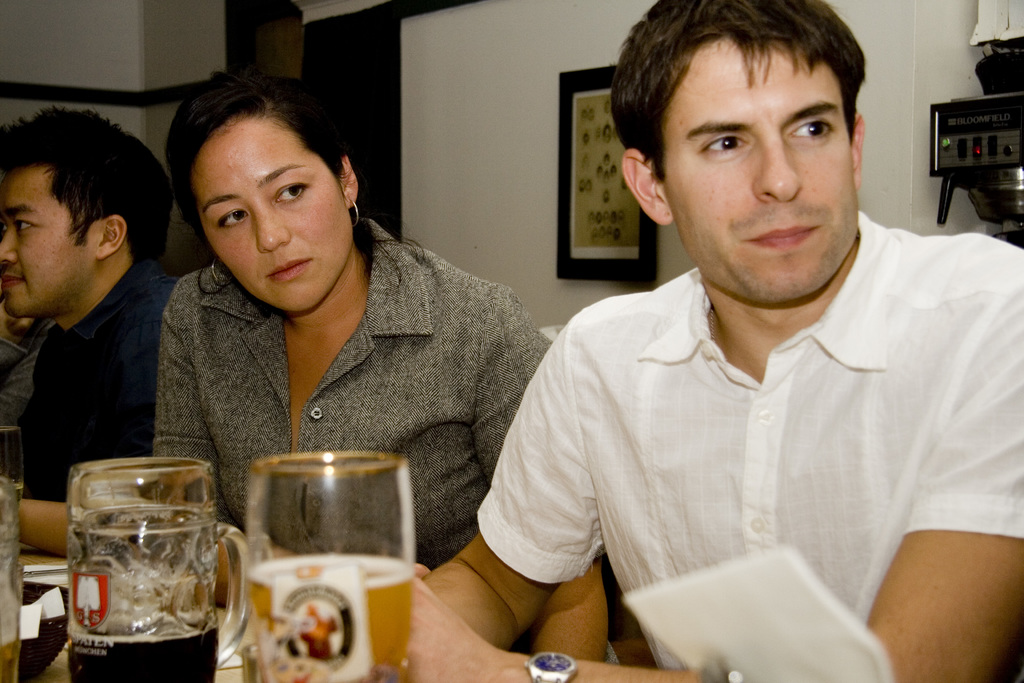Beer: (246, 556, 408, 682)
